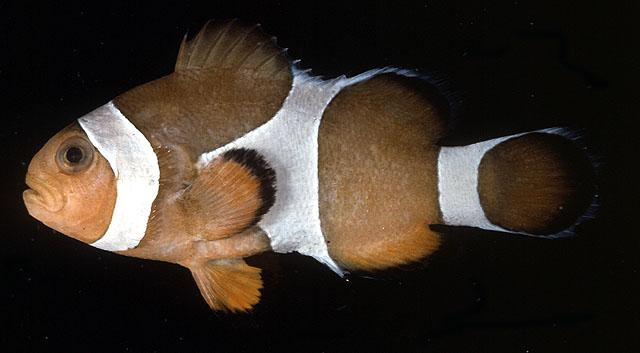Mulut: (9, 159, 85, 241)
Sirip Anal: (311, 218, 453, 290)
Sirip Dada: (163, 135, 301, 255)
Sirip Ekor: (458, 108, 618, 256)
Sirip Perut: (176, 246, 280, 322)
Sirip Punggung: (163, 5, 463, 153)
